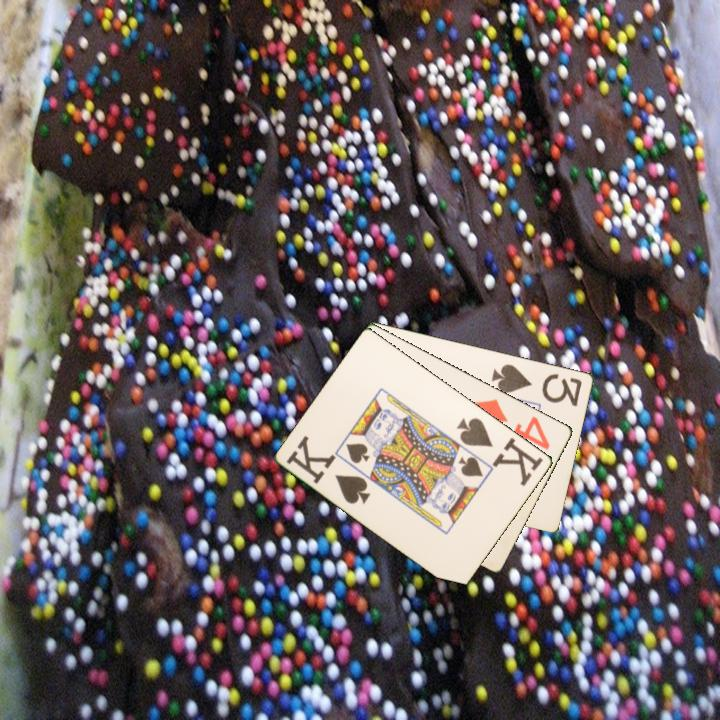3s: (488, 360, 585, 409)
4d: (469, 395, 553, 453)
Ks: (453, 414, 546, 489), (283, 432, 374, 507)
